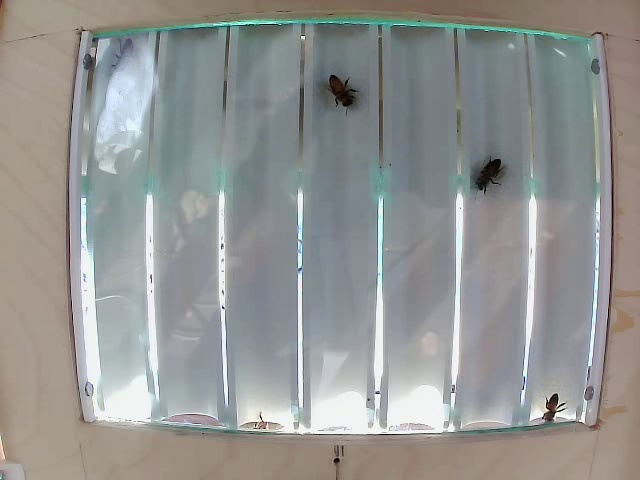bee: (316, 72, 363, 124), (472, 158, 507, 197)
